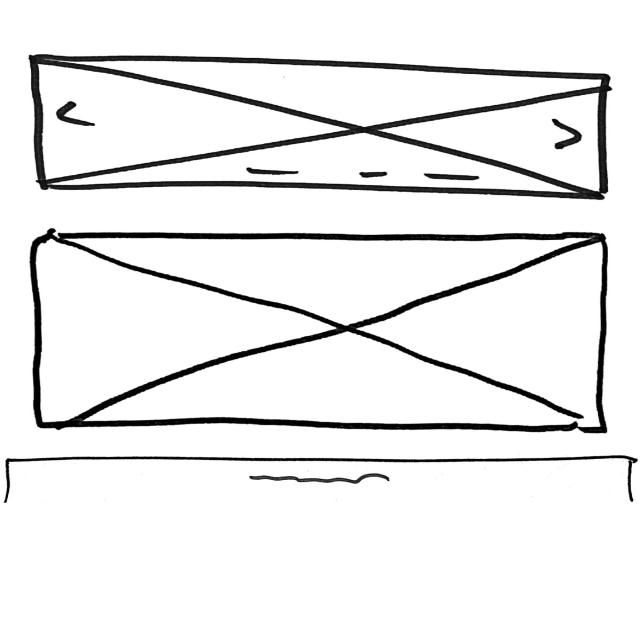image: (29, 229, 611, 437), (29, 52, 613, 202)
text: (248, 468, 395, 489)
